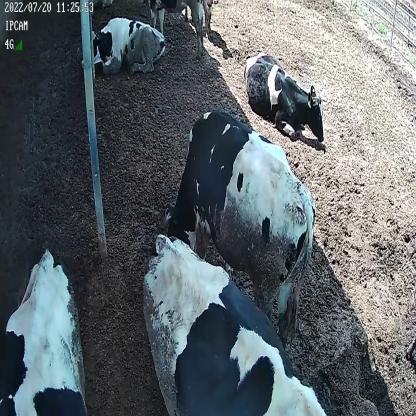cow: (157, 108, 316, 346), (140, 233, 326, 416), (240, 50, 328, 145), (79, 16, 165, 74)
